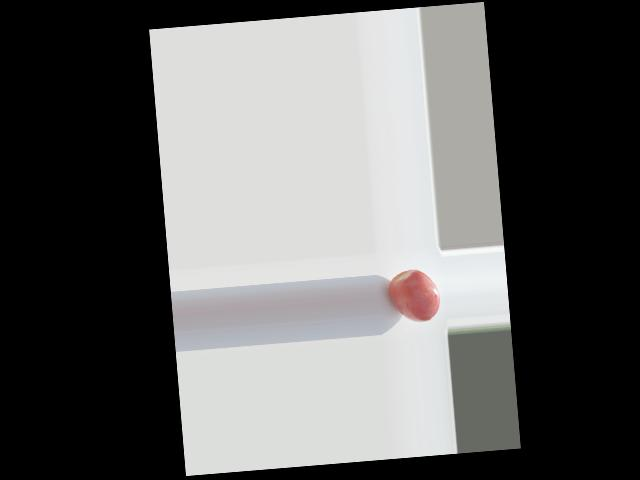tomato: (387, 267, 441, 324)
